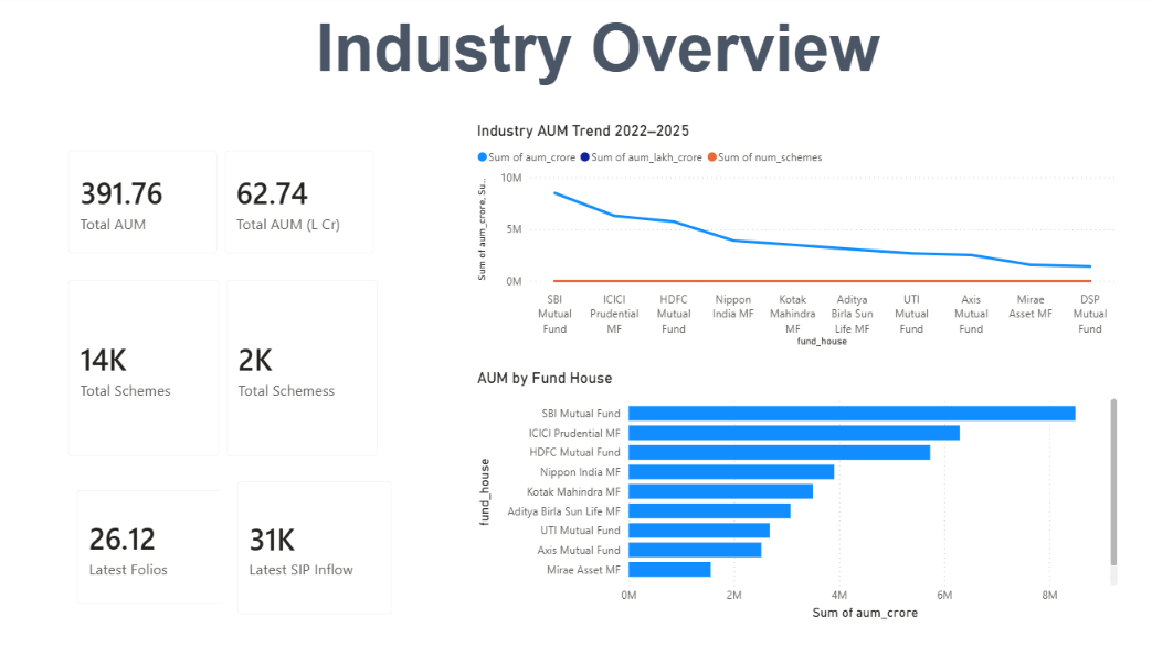

The dashboard page shown, as its layout file describes it:
{"tool":"powerbi","page":{"name":"Page 1","canvas":[1280,720],"ordinal":0},"visuals":[{"type":"textbox","box":[344.8,12.2,660.3,94.2],"z":0},{"type":"lineChart","title":"Industry AUM Trend 2022–2025","fields":{"Y":["Sum(03_aum_by_fund_house.aum_crore)","Sum(03_aum_by_fund_house.aum_lakh_crore)","Sum(03_aum_by_fund_house.num_schemes)","01_fund_master.Total AUM Latest"],"Category":["03_aum_by_fund_house.fund_house"]},"box":[523.4,137,719,250.7],"z":1000},{"type":"barChart","title":"AUM by Fund House","fields":{"Category":["03_aum_by_fund_house.fund_house"],"Y":["Sum(03_aum_by_fund_house.aum_crore)"]},"box":[523.4,406,719,278.8],"z":2000},{"type":"cardVisual","fields":{"Data":["01_fund_master.Latest Folios"]},"box":[73.4,516,205.4,159],"z":4000},{"type":"cardVisual","fields":{"Data":["01_fund_master.Latest SIP Inflow"]},"box":[245.8,505,205.4,179.8],"z":5000},{"type":"cardVisual","fields":{"Data":["01_fund_master.Total Schemes","01_fund_master.Total Schemess"]},"box":[73.4,284.9,377.9,226.2],"z":6000},{"type":"textbox","box":[101.5,137,344.8,171.2],"z":6001}]}

Visuals, with their boxes in screenshot pixels (x1, y1, x2, y2), scaled from the page's 1280x720 canvas onto the 1152x648 screenshot:
textbox: 310,11,905,96
"Industry AUM Trend 2022–2025" lineChart: 471,123,1118,349
"AUM by Fund House" barChart: 471,365,1118,616
cardVisual - 01_fund_master.Latest Folios: 66,464,251,608
cardVisual - 01_fund_master.Latest SIP Inflow: 221,454,406,616
cardVisual - 01_fund_master.Total Schemes x 01_fund_master.Total Schemess: 66,256,406,460
textbox: 91,123,402,277
